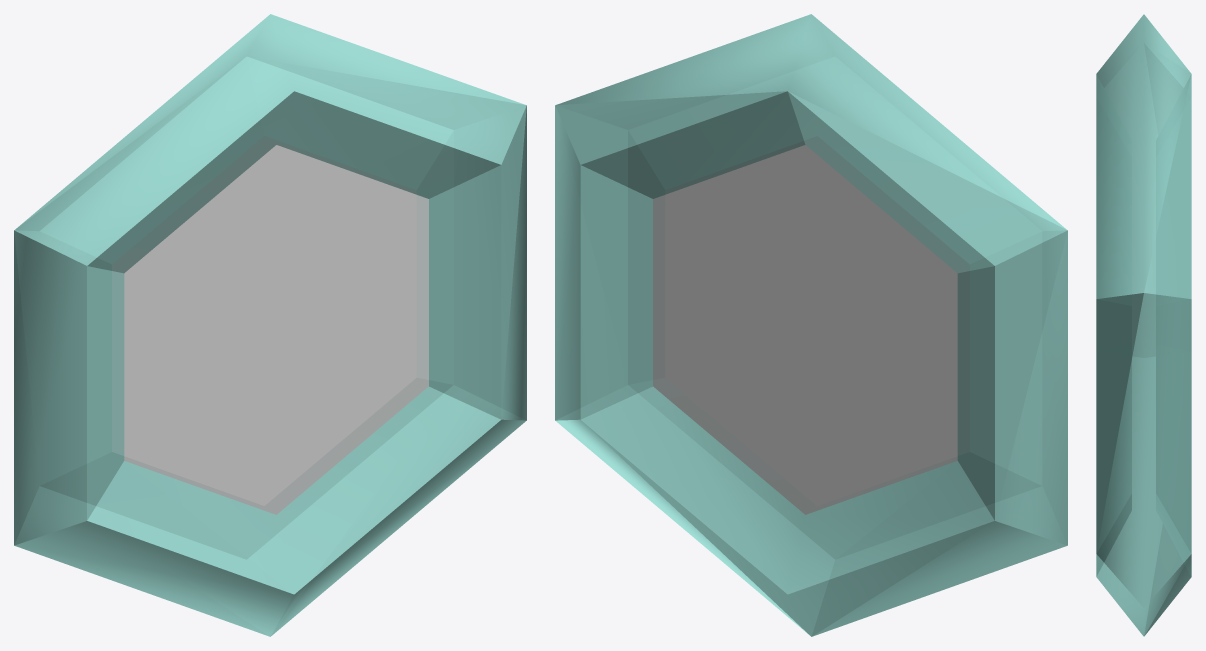
File: powerupicon_shatter.fbx
3 views of the same model, side by side, from view 1: azimuth 30°, elevation 25°; view 2: azimuth 150°, elevation 25°; view 3: azimuth 270°, elevation 25° (orthographic).
Visible parts, largest first — view 1: shard1, shard2, shard6, shard5, shard4, shard3; view 2: shard3, shard2, shard1, shard4, shard5, shard6; view 3: shard2, shard1, shard5, shard3, shard4, shard6.
Boxes of the visible parts, x1,y1,x2,y2 form: shard1: (14,14,526,460); shard2: (247,57,526,635); shard6: (124,330,500,594); shard5: (14,230,293,636); shard4: (15,57,263,484); shard3: (41,191,452,635); shard3: (580,199,994,636); shard2: (555,91,834,635); shard1: (555,14,1066,450); shard4: (788,91,1067,520); shard5: (812,230,1067,636); shard6: (630,381,968,558); shard2: (1096,74,1191,636); shard1: (1096,14,1191,553); shard5: (1097,44,1161,635); shard3: (1144,312,1191,635); shard4: (1145,44,1190,134); shard6: (1097,495,1131,574).
Bounding box in the file's own units: 1.07 × 1.24 × 0.1712.
